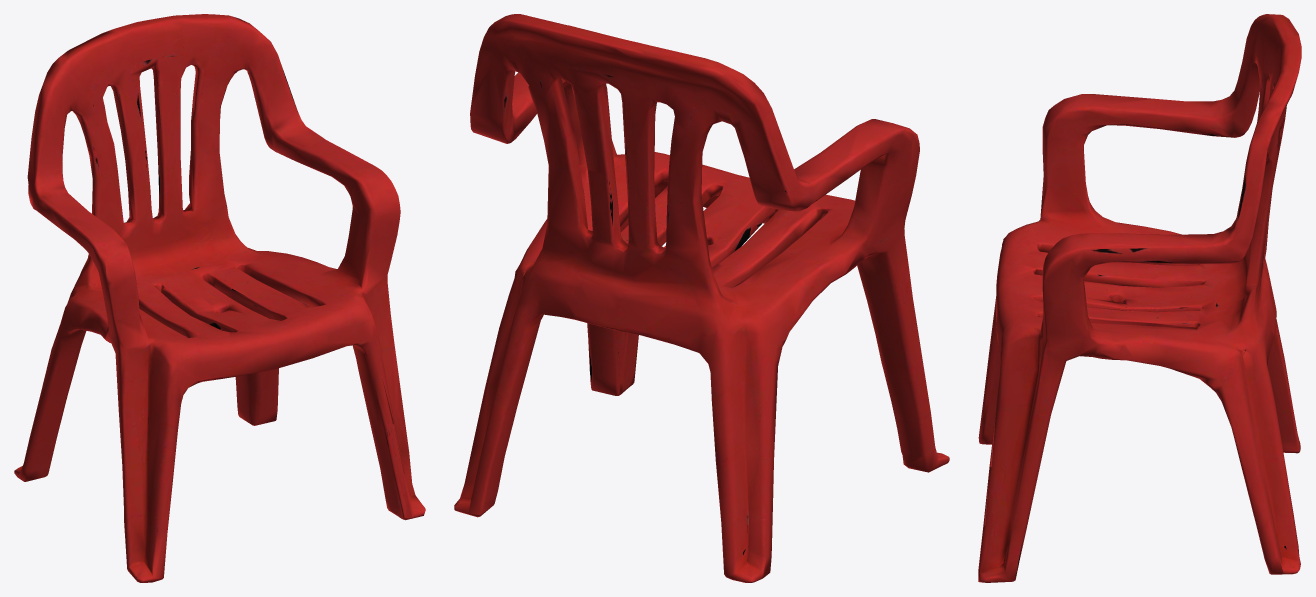
Rendered from chair.glb.
3 views of the same model, side by side, from view 1: azimuth 30°, elevation 25°; view 2: azimuth 150°, elevation 25°; view 3: azimuth 270°, elevation 25° (orthographic). The views are drawn at different scales.
Visible parts, largest first — view 1: geometry_0; view 2: geometry_0; view 3: geometry_0.
Boxes of the visible parts, x1,y1,x2,y2 form: geometry_0: (14,14,425,582); geometry_0: (454,14,949,582); geometry_0: (978,14,1301,582).
Size of the model in its own units: 0.6958 by 0.9512 by 0.6064.
1 material, 1 textured.
